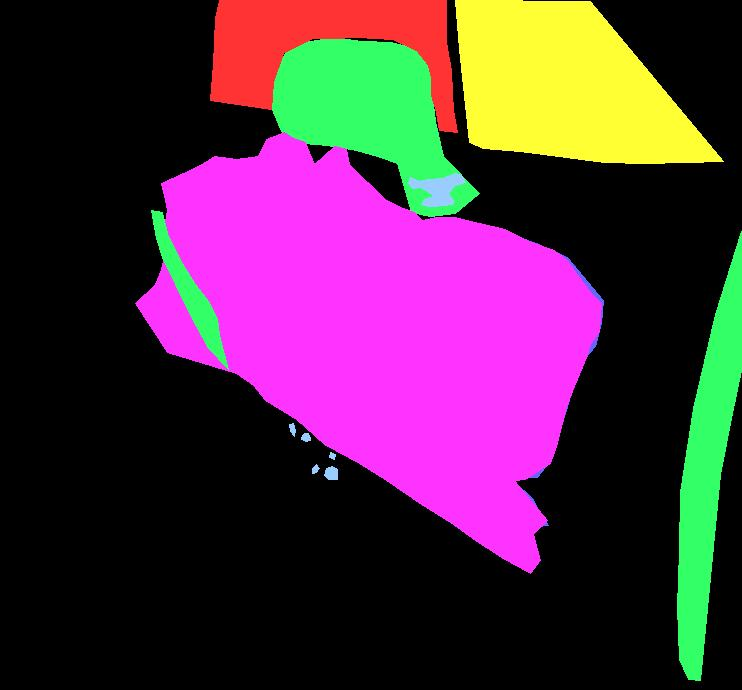Broken part: (271, 37, 479, 216), (677, 231, 741, 680), (151, 210, 228, 369)
Corrosion: (408, 173, 465, 206), (386, 438, 416, 463), (342, 427, 365, 440), (324, 466, 337, 479), (304, 285, 314, 299), (289, 423, 295, 436), (301, 433, 310, 441), (322, 431, 330, 439), (312, 464, 319, 473), (329, 452, 335, 459)
Cracked: (455, 0, 723, 163)
Dent: (135, 132, 601, 573)
Missing part: (210, 0, 457, 132)
Scratch: (203, 293, 548, 551), (450, 221, 603, 359), (354, 291, 502, 373), (376, 200, 519, 274), (392, 245, 553, 308), (508, 357, 569, 478), (261, 387, 322, 424), (423, 277, 463, 326), (242, 353, 280, 372), (326, 303, 346, 336), (464, 308, 478, 334)
